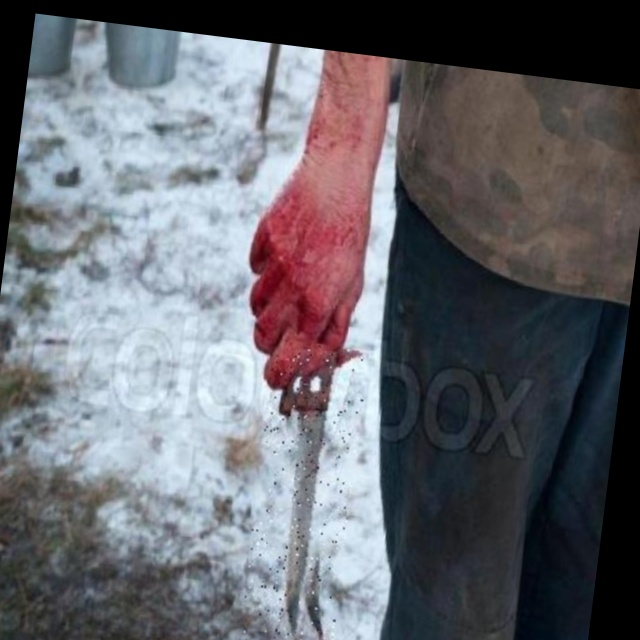Sharp-Object: (239, 338, 368, 640)
